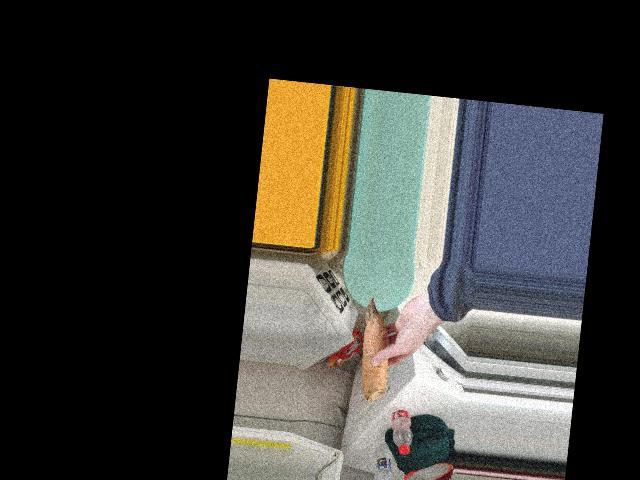sweet_potato: (349, 299, 400, 408)
